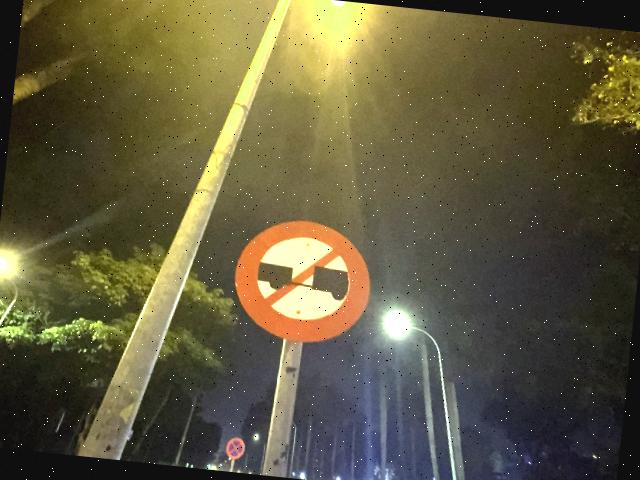cam-xe-somi-romooc: (230, 212, 378, 350)
